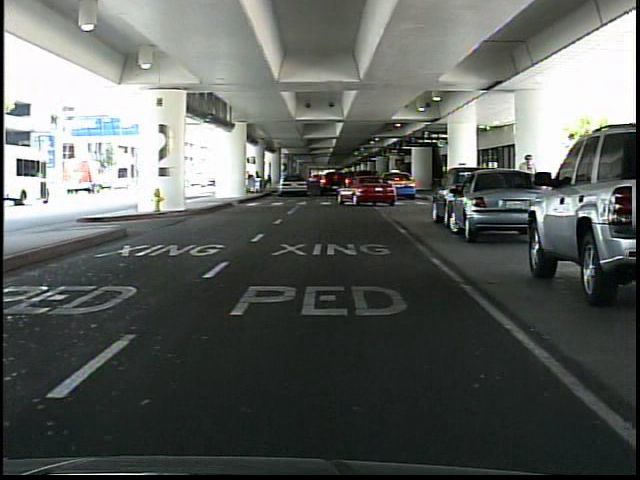person: (514, 152, 541, 230)
